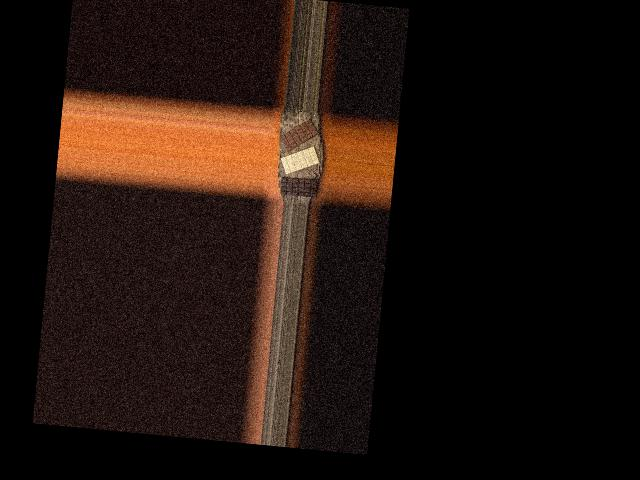chocolate: (280, 176, 318, 198)
